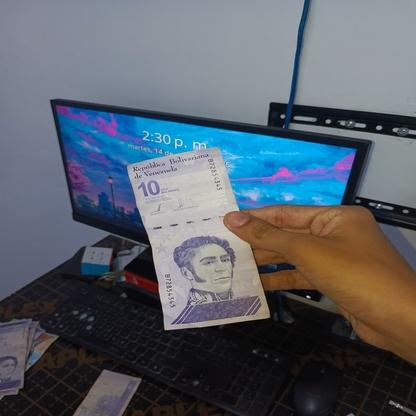ten-front-vef: (126, 146, 270, 330)
